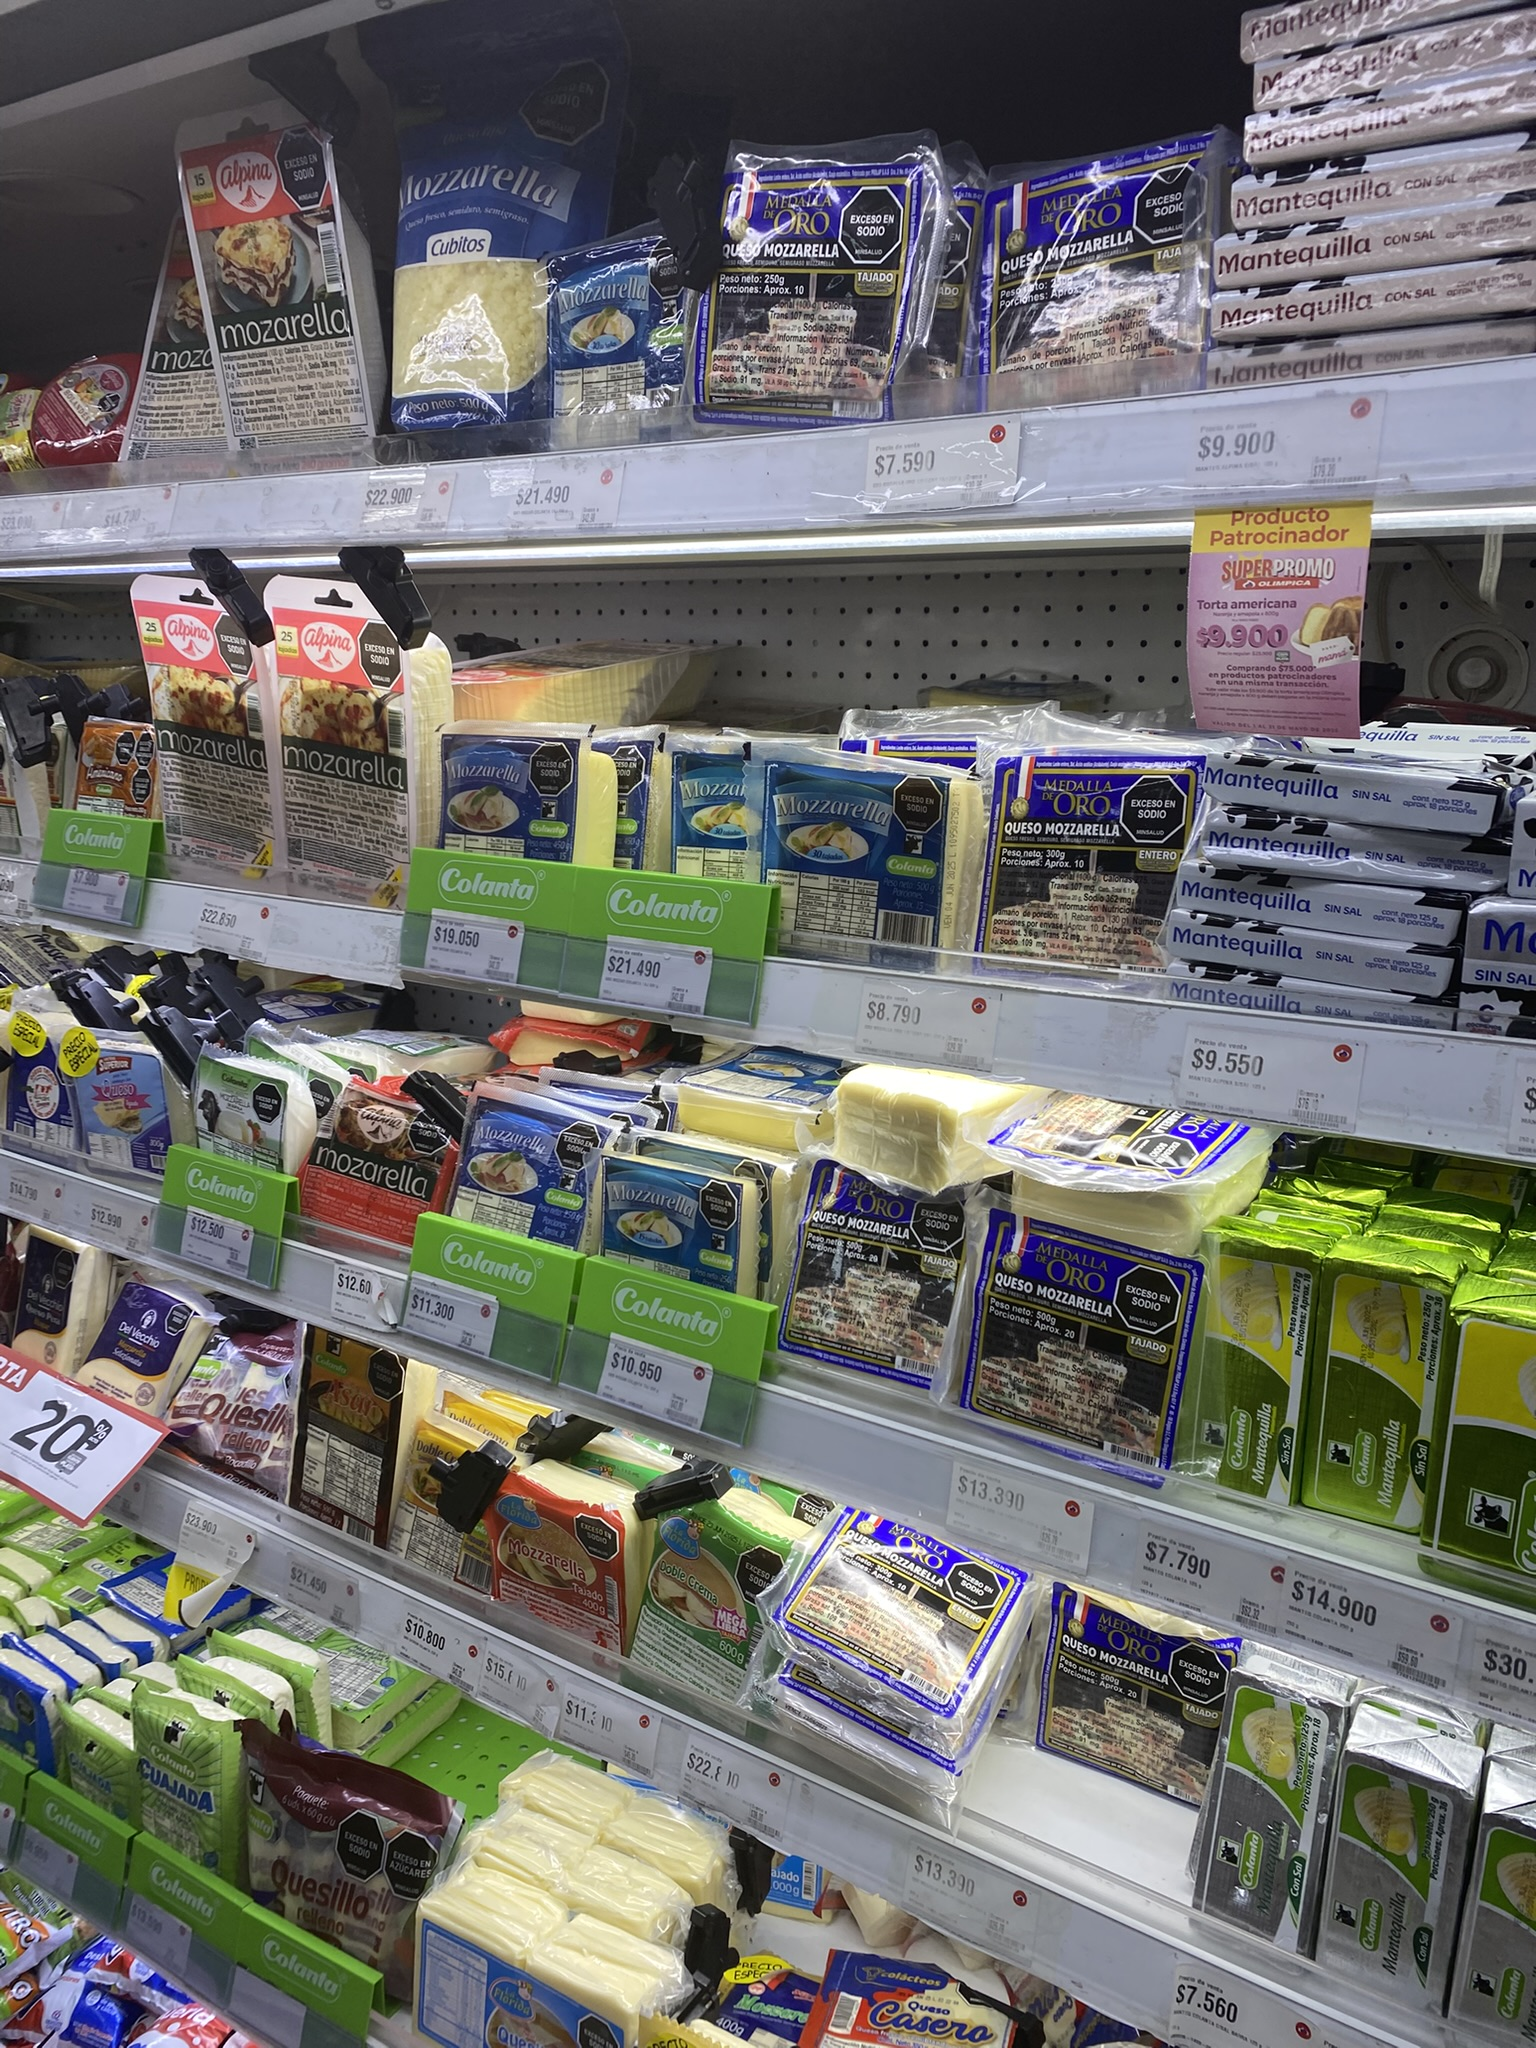Queso Mozzarella: (758, 779, 975, 956), (450, 1094, 612, 1253), (540, 244, 684, 421), (450, 734, 604, 877), (599, 1163, 784, 1282), (660, 1033, 840, 1142), (660, 726, 752, 885)
